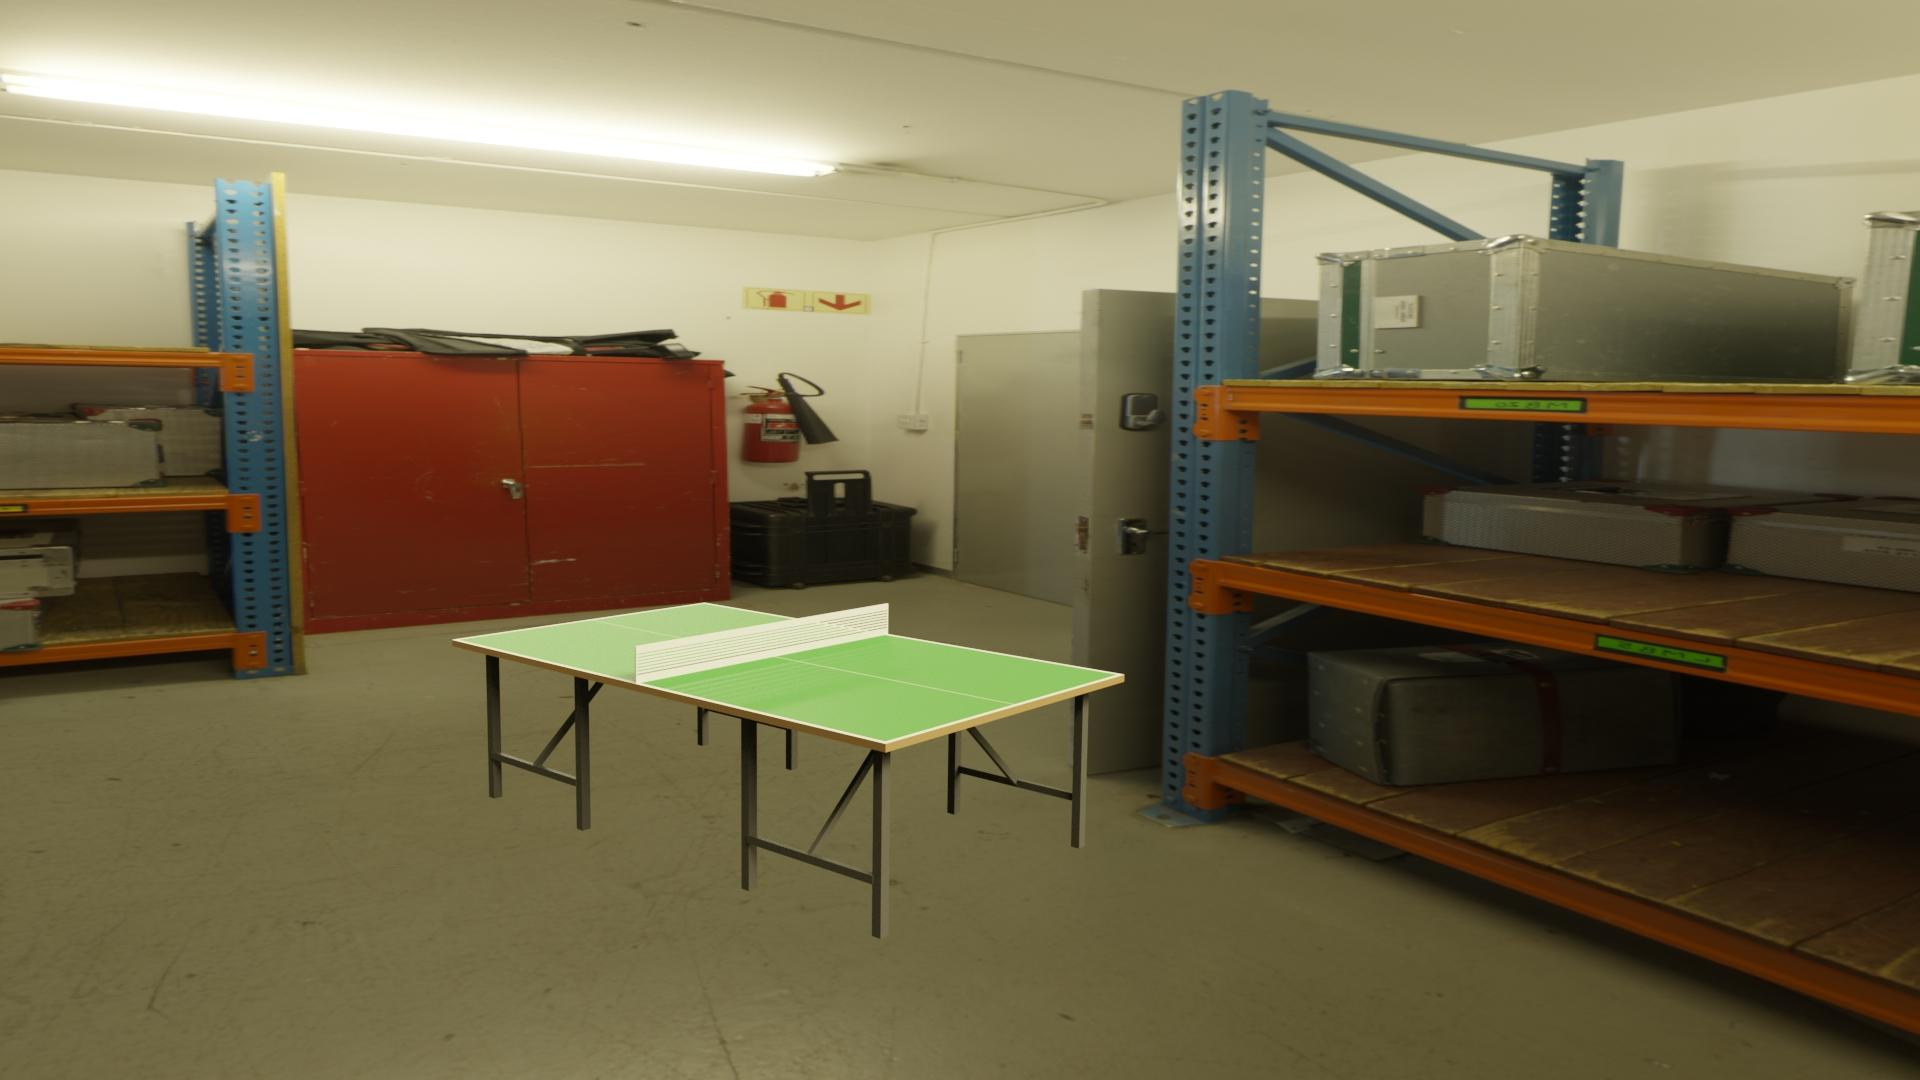table: (459, 604, 1118, 741)
